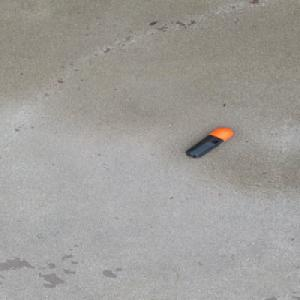PlasticPart: (184, 127, 233, 158)
